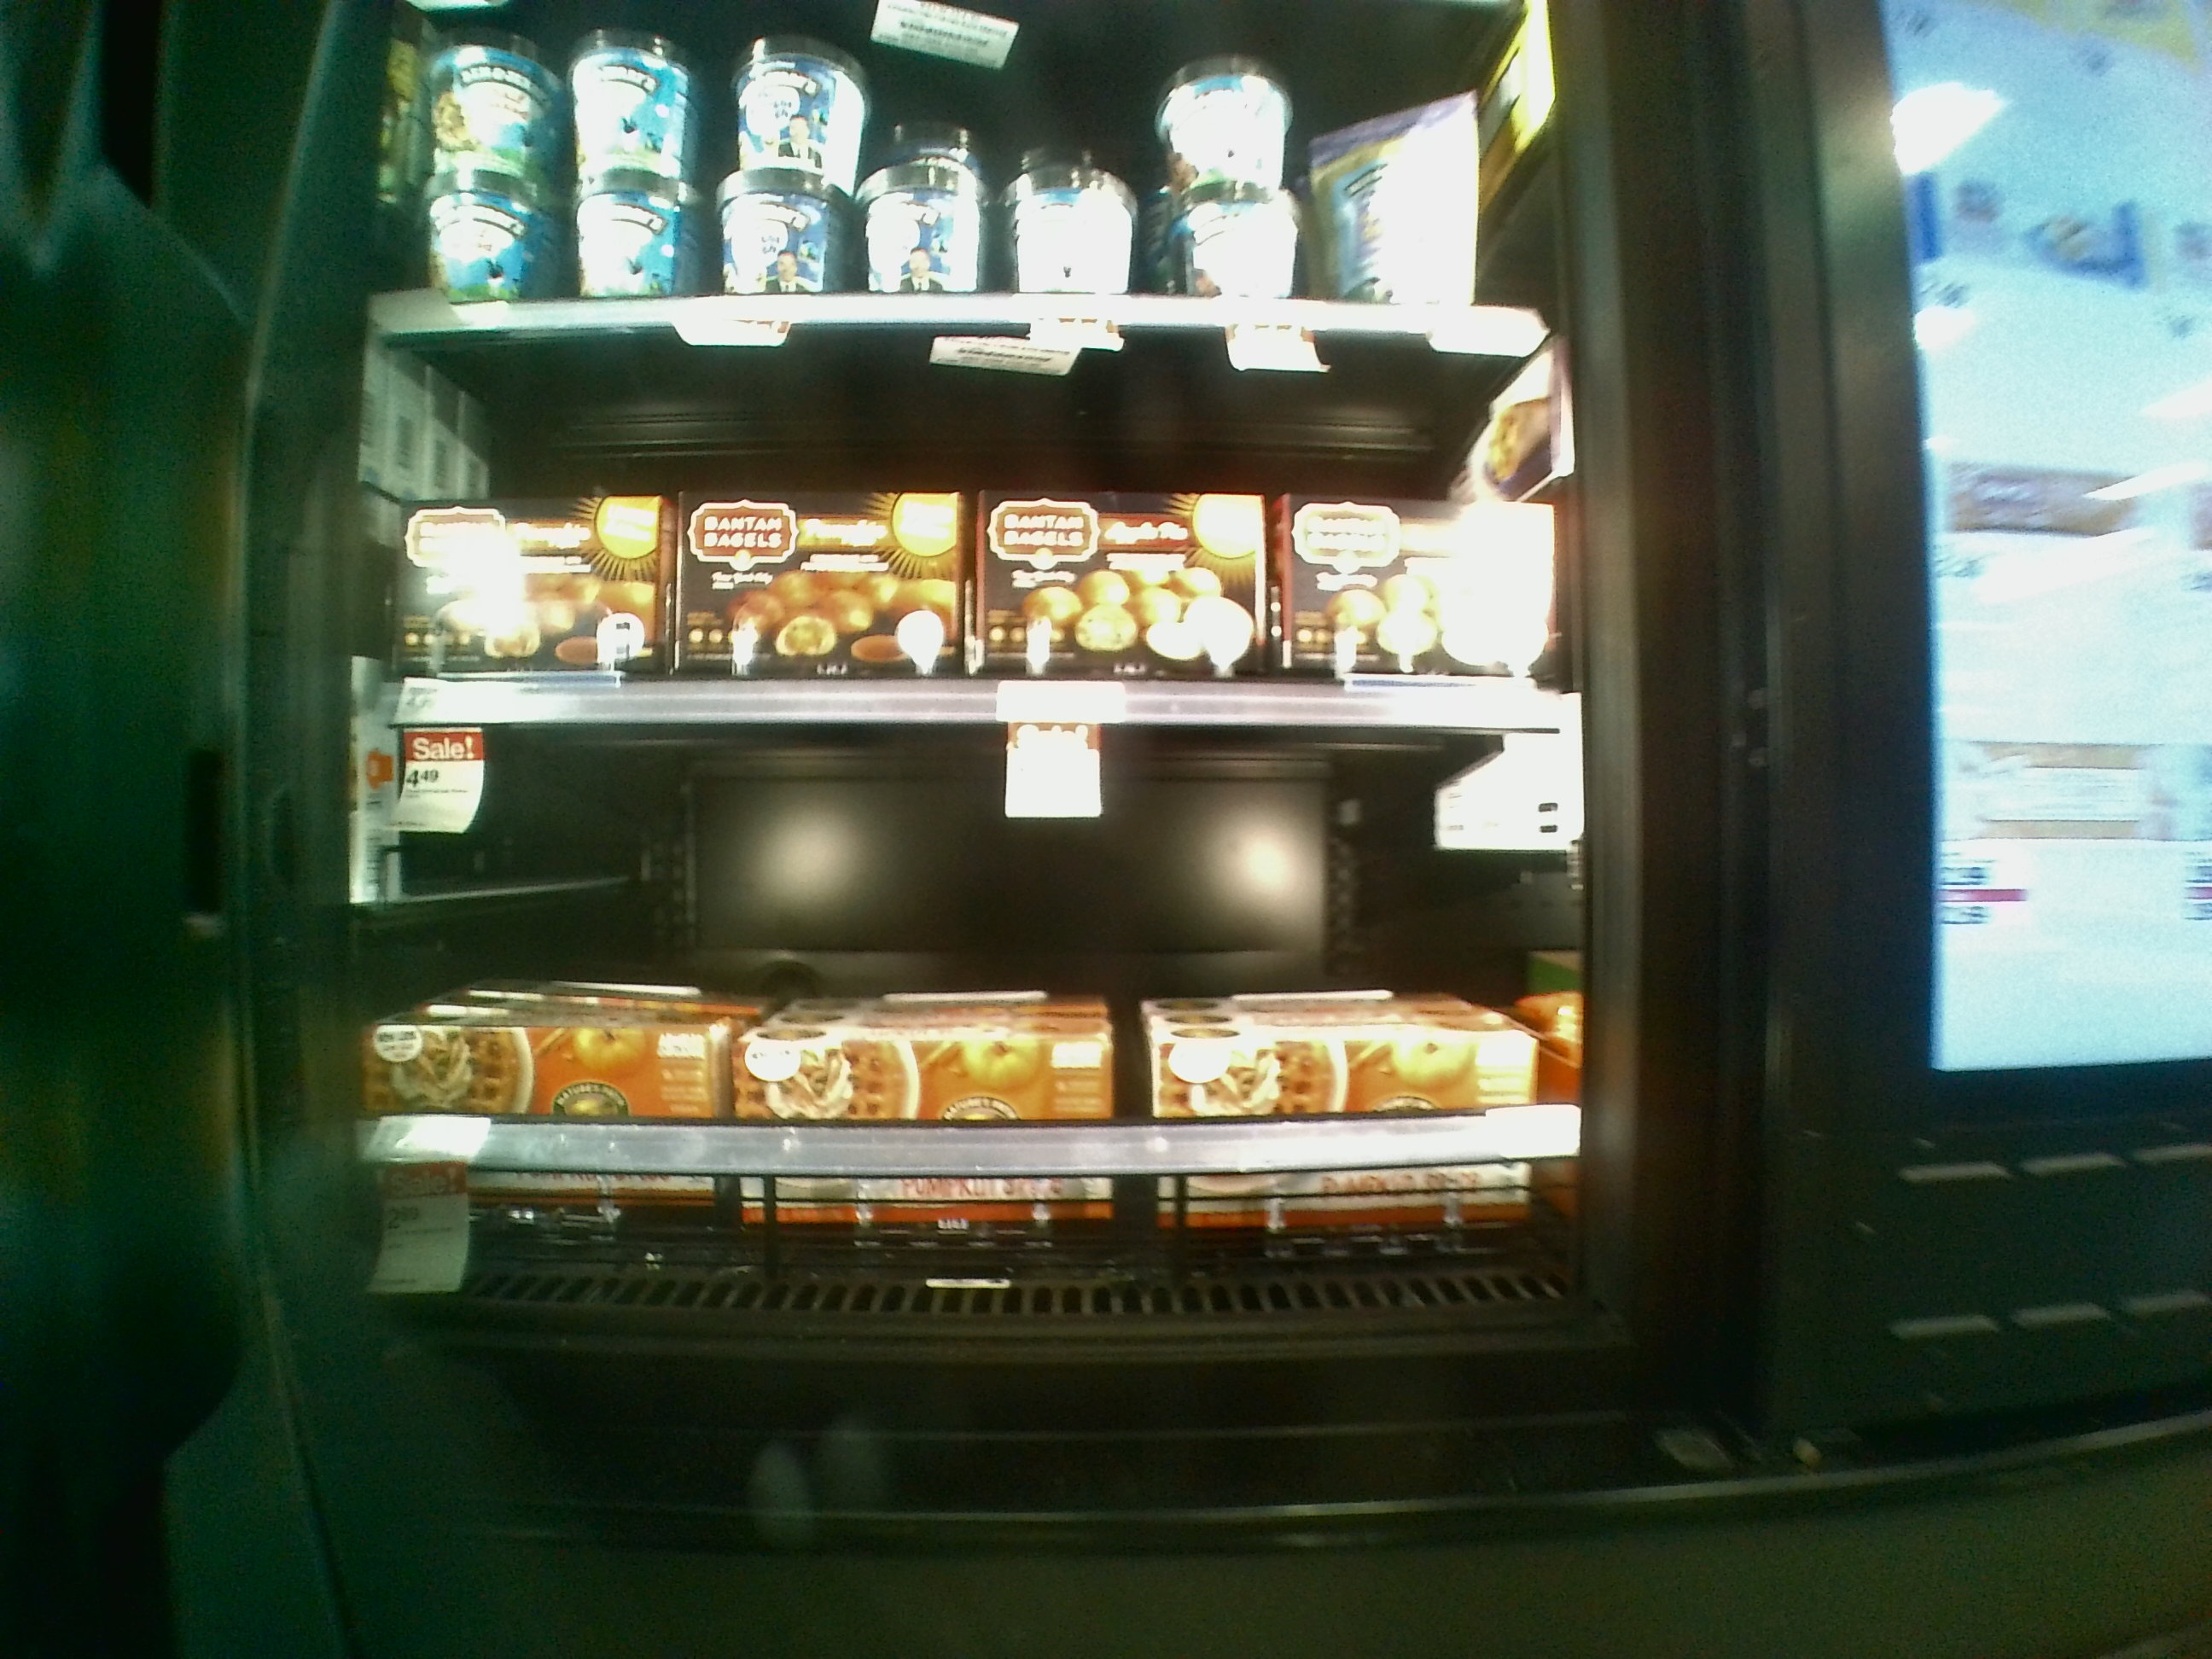shelf: (355, 708, 1602, 1356), (354, 310, 1599, 730)
